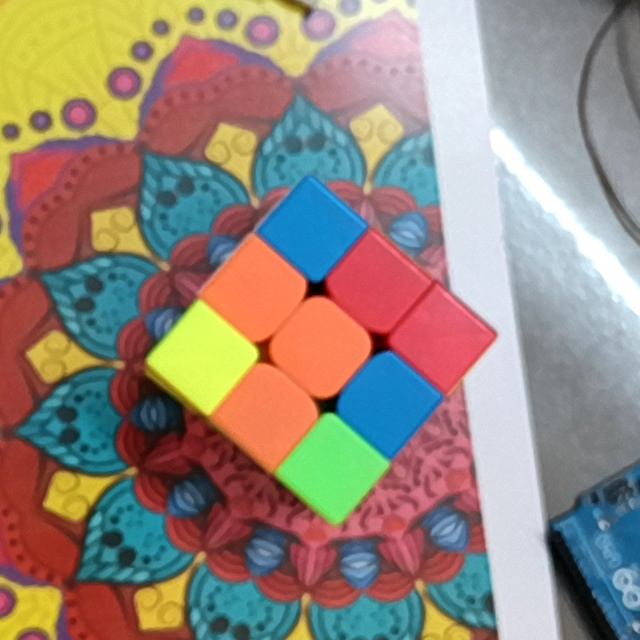tile: (293, 320, 349, 376), (306, 440, 361, 496), (238, 387, 295, 441), (228, 264, 283, 317), (177, 332, 232, 384), (358, 379, 414, 430), (414, 314, 468, 365), (286, 205, 338, 256), (349, 258, 400, 310)
